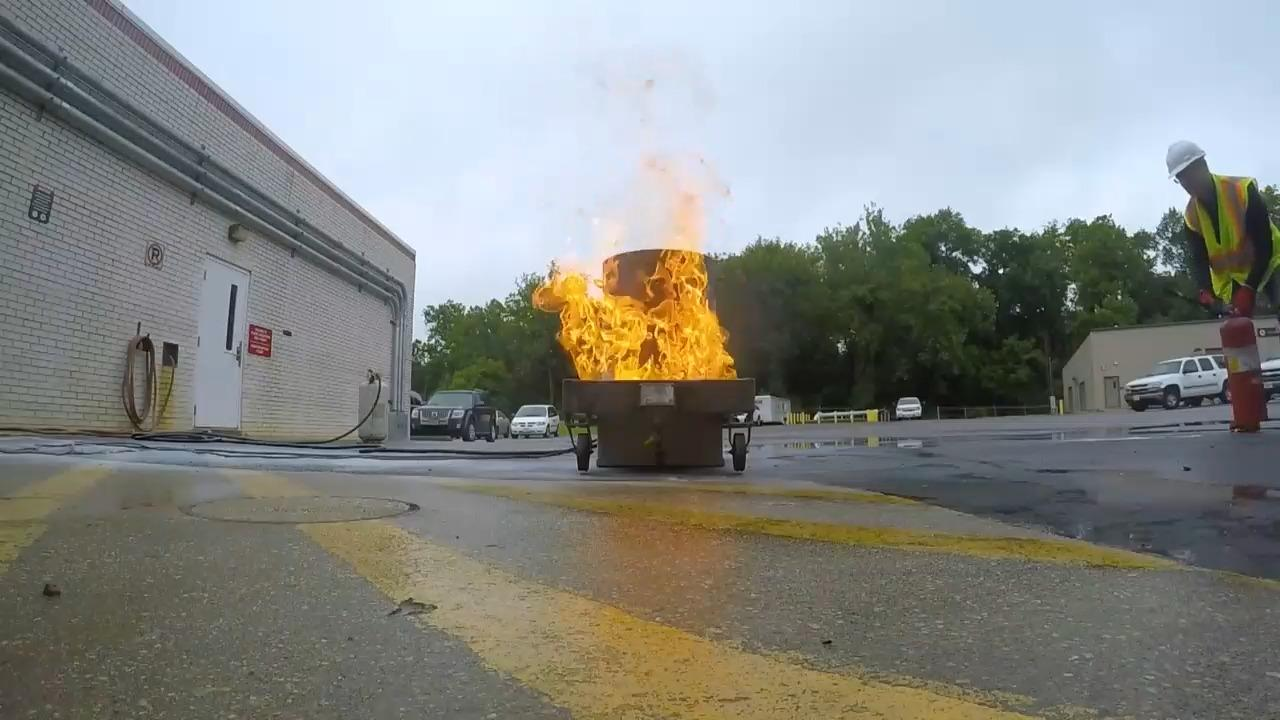Gloves: (1231, 289, 1252, 323), (1196, 282, 1207, 318)
Helmet: (1166, 140, 1205, 174)
Person: (1153, 130, 1280, 412)
Safety Boot: (1188, 201, 1264, 283)
